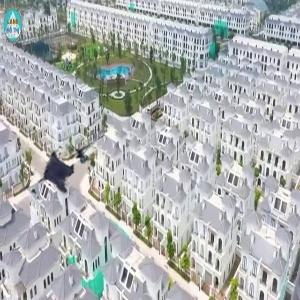drone: (14, 133, 113, 232)
